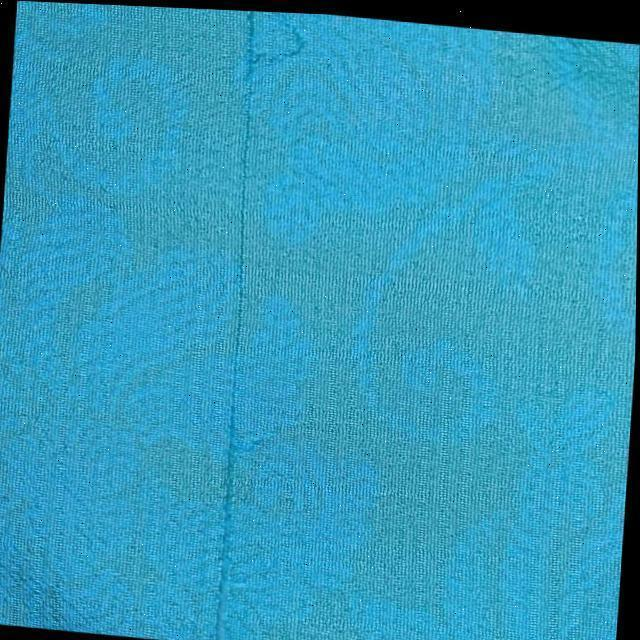pulled_or_thick_thread: (211, 9, 261, 640)
